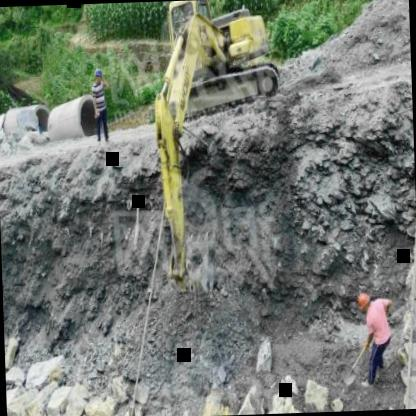helmet: (355, 292, 372, 314), (93, 66, 105, 84)
